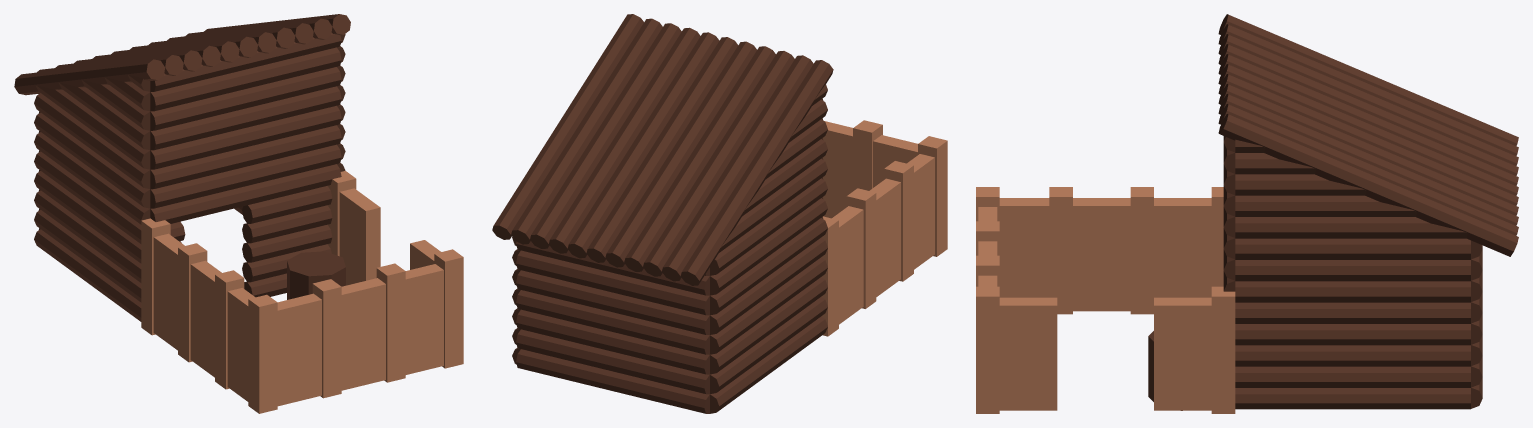
The model's file is WoodShack.fbx.
3 renders of one model, left to right at view 1: azimuth 30°, elevation 25°; view 2: azimuth 150°, elevation 25°; view 3: azimuth 270°, elevation 25°, orthographic. The views are drawn at different scales.
Parts seen in each view (by area): view 1: Cylinder.003, Cylinder, Cube.003, Cube.001, Cylinder.004, Cube.005, Cube.004, Cylinder.002; view 2: Cylinder.004, Cylinder.001, Cylinder, Cube.001, Cube.003; view 3: Cylinder, Cylinder.004, Cube.001, Cube.004, Cube.005, Cube.003, Cylinder.003, Cylinder.001.
Part boxes in pixels (x1=…): Cylinder.003: x1=150, y1=33, x2=341, y2=297; Cylinder: x1=34, y1=34, x2=345, y2=321; Cube.003: x1=248, y1=263, x2=443, y2=413; Cube.001: x1=141, y1=218, x2=255, y2=401; Cylinder.004: x1=14, y1=14, x2=350, y2=95; Cube.005: x1=327, y1=171, x2=380, y2=285; Cube.004: x1=410, y1=240, x2=463, y2=368; Cylinder.002: x1=287, y1=251, x2=345, y2=299; Cylinder.004: x1=492, y1=14, x2=833, y2=285; Cylinder.001: x1=516, y1=241, x2=709, y2=413; Cylinder: x1=512, y1=84, x2=827, y2=413; Cube.001: x1=821, y1=154, x2=934, y2=336; Cube.003: x1=822, y1=120, x2=947, y2=256; Cylinder: x1=1235, y1=139, x2=1470, y2=409; Cylinder.004: x1=1218, y1=14, x2=1518, y2=256; Cube.001: x1=999, y1=187, x2=1223, y2=314; Cube.004: x1=976, y1=286, x2=1057, y2=413; Cube.005: x1=1154, y1=286, x2=1235, y2=413; Cube.003: x1=976, y1=187, x2=999, y2=286; Cylinder.003: x1=1223, y1=136, x2=1235, y2=291; Cylinder.001: x1=1471, y1=240, x2=1482, y2=408.
Bounding box in the file's own units: 2.2 × 2.87 × 4.61.
